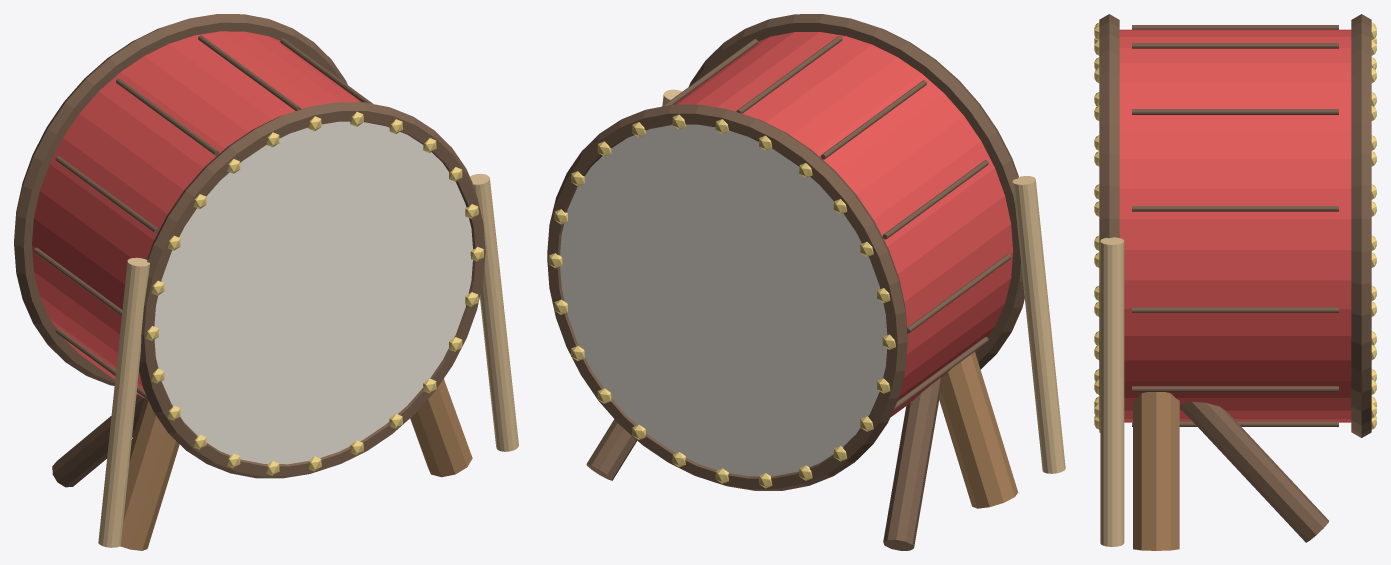
Rendered from gakki_nagadou_taiko.glb.
3 renders of one model, left to right at view 1: azimuth 30°, elevation 25°; view 2: azimuth 150°, elevation 25°; view 3: azimuth 270°, elevation 25°, orthographic. The views are drawn at different scales.
Parts seen in each view (by area): view 1: Nagado full taiko taut drum skin, Nagado full taiko hardwood shell, Nagado full taiko leather head rim, Nagado full taiko leather head rim.001, Taiko hand bachi, Taiko hand bachi.001, Angled nagado taiko stand, Angled nagado taiko stand.001, Cross bracing, Nagado full taiko wood grain.004, Nagado full taiko wood grain.005, Nagado full taiko wood grain.003 (+2 smaller); view 2: Nagado full taiko taut drum skin.001, Nagado full taiko hardwood shell, Nagado full taiko leather head rim.001, Nagado full taiko leather head rim, Taiko hand bachi, Angled nagado taiko stand, Cross bracing, Cross bracing.001, Nagado full taiko wood grain.005, Nagado full taiko wood grain.004, Nagado full taiko wood grain.006, Nagado full taiko wood grain.003 (+2 smaller); view 3: Nagado full taiko hardwood shell, Nagado full taiko leather head rim.001, Taiko hand bachi.001, Angled nagado taiko stand.001, Cross bracing.001, Nagado full taiko leather head rim, Nagado full taiko wood grain, Nagado full taiko wood grain.001, Nagado full taiko wood grain.002, Nagado full taiko wood grain.003, Nagado full taiko wood grain.011, Nagado full taiko wood grain.004 (+1 smaller).
Part boxes in pixels (box(x1,y1,x2,y2)): Nagado full taiko taut drum skin: box(154, 121, 472, 464); Nagado full taiko hardwood shell: box(32, 31, 361, 398); Nagado full taiko leather head rim: box(139, 102, 485, 478); Nagado full taiko leather head rim.001: box(14, 14, 347, 385); Taiko hand bachi: box(98, 257, 149, 547); Taiko hand bachi.001: box(470, 173, 518, 451); Angled nagado taiko stand: box(120, 398, 179, 550); Angled nagado taiko stand.001: box(410, 379, 472, 477); Cross bracing: box(52, 394, 144, 487); Nagado full taiko wood grain.004: box(116, 78, 219, 155); Nagado full taiko wood grain.005: box(55, 156, 158, 233); Nagado full taiko wood grain.003: box(198, 35, 301, 110); Nagado full taiko taut drum skin.001: box(560, 124, 887, 476); Nagado full taiko hardwood shell: box(675, 32, 1013, 416); Nagado full taiko leather head rim.001: box(547, 104, 907, 490); Nagado full taiko leather head rim: box(688, 14, 1024, 369); Taiko hand bachi: box(1012, 176, 1065, 473); Angled nagado taiko stand: box(939, 351, 1018, 508); Cross bracing: box(883, 376, 942, 550); Cross bracing.001: box(586, 419, 637, 480); Nagado full taiko wood grain.005: box(882, 160, 988, 239); Nagado full taiko wood grain.004: box(820, 80, 926, 159); Nagado full taiko wood grain.006: box(907, 254, 1011, 333); Nagado full taiko wood grain.003: box(736, 36, 842, 113); Nagado full taiko hardwood shell: box(1119, 29, 1351, 422); Nagado full taiko leather head rim.001: box(1351, 14, 1371, 437); Taiko hand bachi.001: box(1100, 237, 1124, 546); Angled nagado taiko stand.001: box(1133, 392, 1179, 550); Cross bracing.001: box(1180, 401, 1328, 542); Nagado full taiko leather head rim: box(1099, 14, 1119, 432); Nagado full taiko wood grain: box(1132, 307, 1338, 312); Nagado full taiko wood grain.001: box(1132, 206, 1338, 211); Nagado full taiko wood grain.002: box(1132, 109, 1338, 114); Nagado full taiko wood grain.003: box(1132, 43, 1338, 48); Nagado full taiko wood grain.011: box(1132, 386, 1338, 391); Nagado full taiko wood grain.004: box(1132, 25, 1338, 29).
Size of the model in its own units: 1.95 by 1.87 by 1.09.
